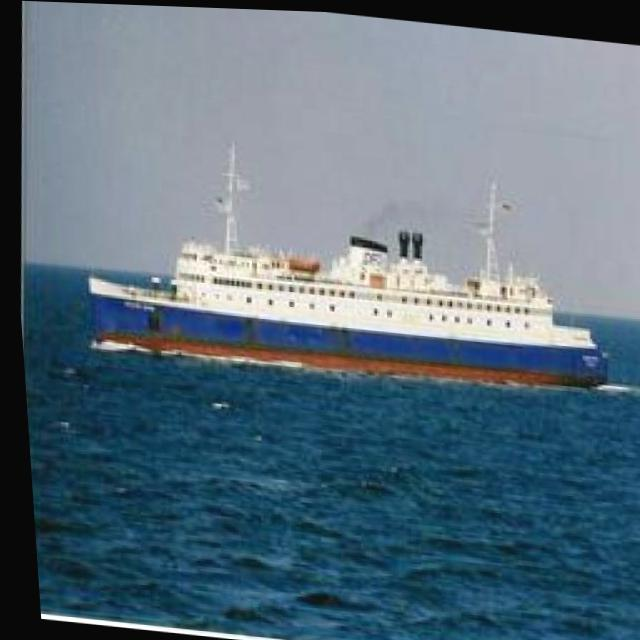ship2: (86, 152, 604, 387)
